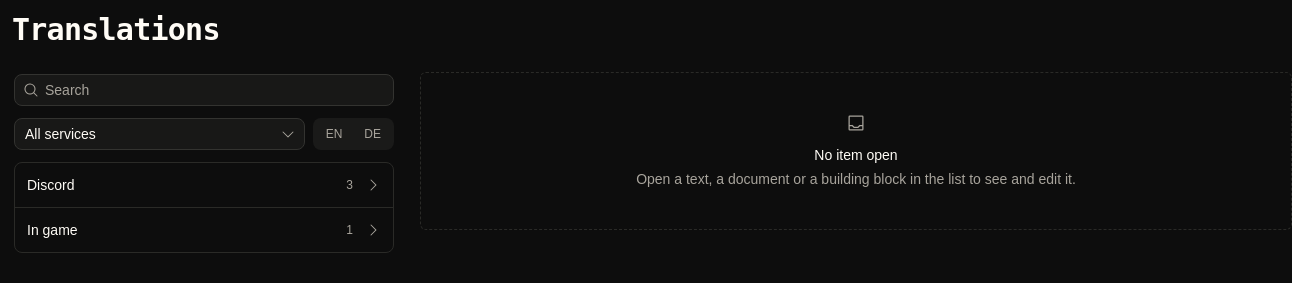
Scenario: the list of documents › lists a text of a bundle as an item of its own, with its words
Click the button "In game 1" at point(52, 230), box [15, 208, 393, 252]
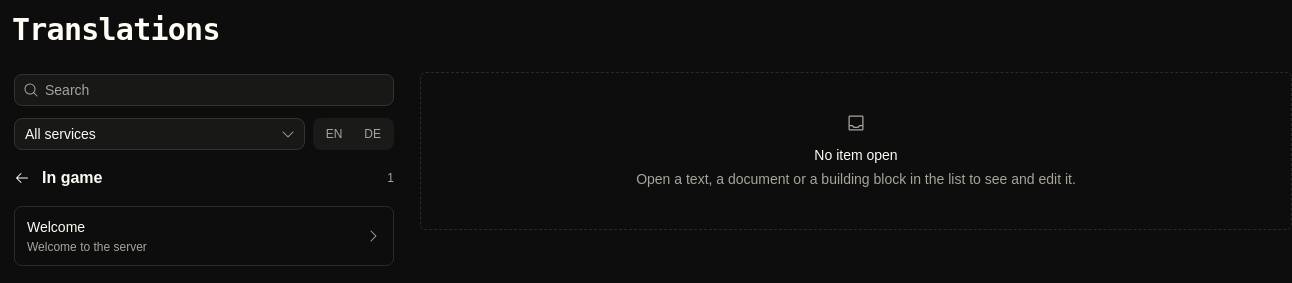
expect the button "Welcome Welcome to the server" is shown: met, box [15, 207, 393, 265]
